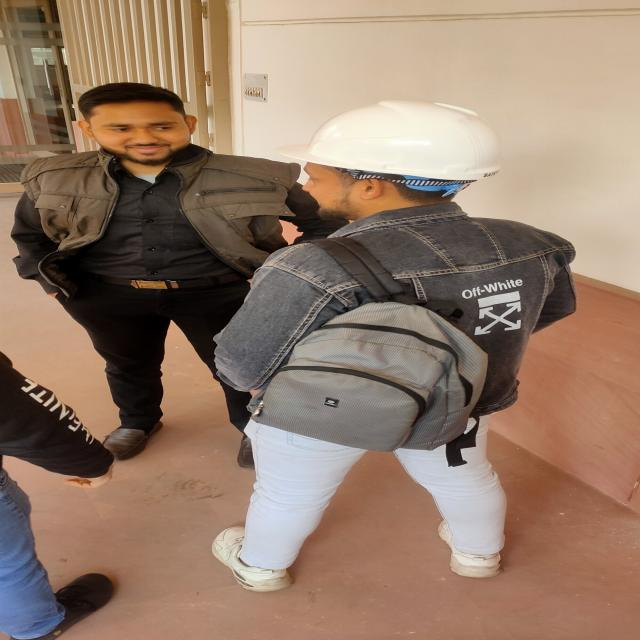no jacket: (209, 97, 584, 590)
unsafe: (33, 82, 294, 465)
